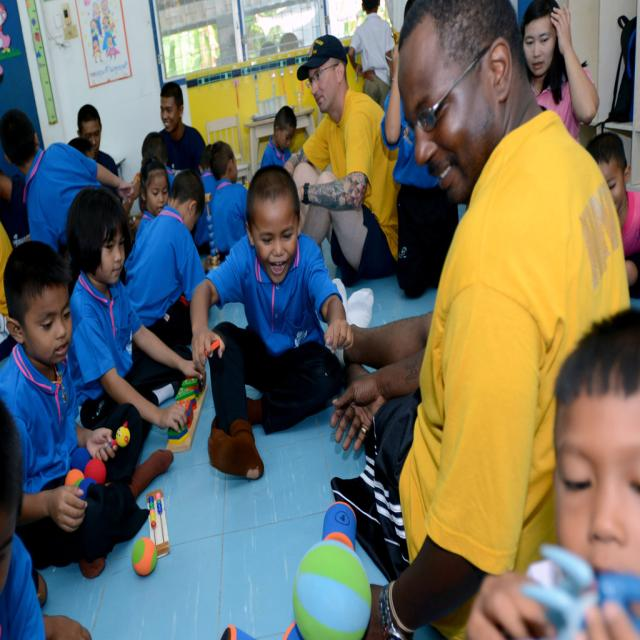Tennis ball: (131, 537, 157, 575), (86, 454, 110, 484), (64, 472, 86, 484)
